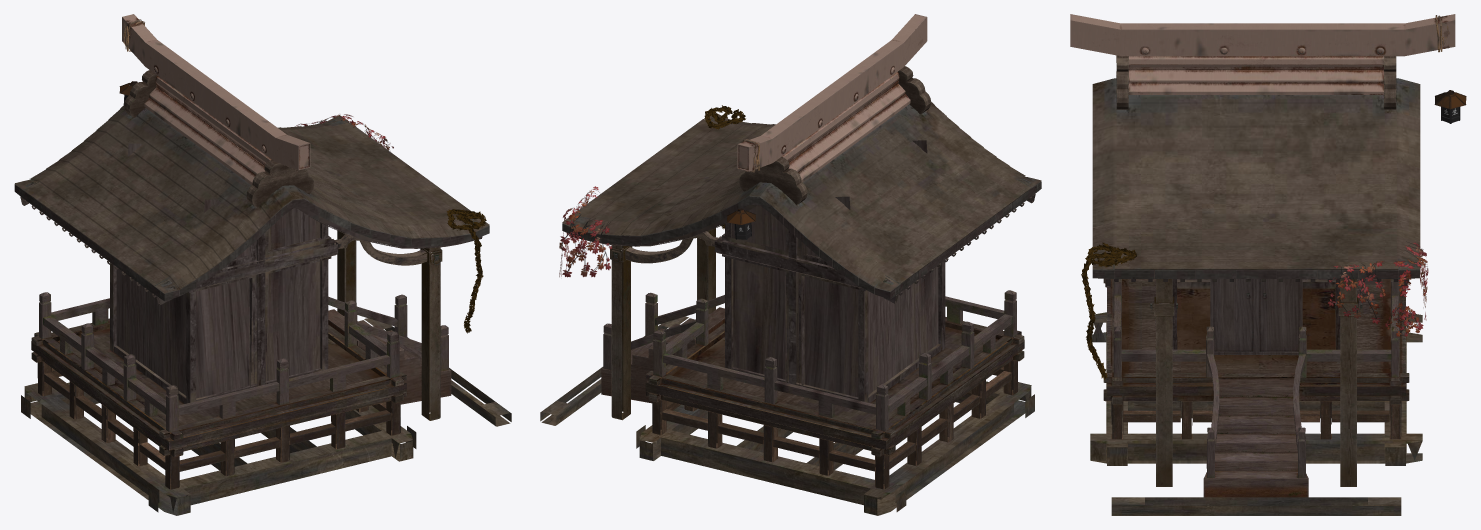
The model's file is hokora_s16.glb.
3 views of the same model, side by side, from view 1: azimuth 30°, elevation 25°; view 2: azimuth 150°, elevation 25°; view 3: azimuth 270°, elevation 25° (orthographic). The views are drawn at different scales.
Parts seen in each view (by area): view 1: polySurface64, polySurface46, pCube8, polySurface102, polySurface39, polySurface2, polySurface45, polySurface5, pCube4, polySurface63, polySurface59, pPlane10 (+3 smaller); view 2: polySurface64, polySurface46, pCube8, polySurface102, polySurface39, polySurface2, polySurface45, polySurface5, pCube4, polySurface63, polySurface59, pPlane21 (+5 smaller); view 3: polySurface64, polySurface2, polySurface102, pCube8, pPlane10, pCube4, polySurface85, polySurface39, polySurface5, polySurface63, pPlane21, Rope (+3 smaller).
Boxes of the visible parts, <box> form: polySurface64: <box>15,105,489,293</box>; polySurface46: <box>115,143,322,402</box>; pCube8: <box>21,318,511,515</box>; polySurface102: <box>31,318,406,457</box>; polySurface39: <box>39,292,448,431</box>; polySurface2: <box>122,14,310,184</box>; polySurface45: <box>110,223,338,403</box>; polySurface5: <box>37,361,400,489</box>; pCube4: <box>337,230,442,420</box>; polySurface63: <box>14,119,489,301</box>; polySurface59: <box>124,70,314,207</box>; pPlane10: <box>328,309,451,404</box>; polySurface64: <box>562,102,1041,291</box>; polySurface46: <box>731,140,939,401</box>; pCube8: <box>540,316,1034,515</box>; polySurface102: <box>645,317,1024,456</box>; polySurface39: <box>603,290,1016,431</box>; polySurface2: <box>737,14,927,182</box>; polySurface45: <box>714,222,945,402</box>; polySurface5: <box>652,360,1017,489</box>; pCube4: <box>610,227,715,420</box>; polySurface63: <box>562,179,1041,299</box>; polySurface59: <box>739,66,931,204</box>; pPlane21: <box>559,186,612,277</box>; polySurface64: <box>1092,78,1420,269</box>; polySurface2: <box>1070,14,1455,94</box>; polySurface102: <box>1103,270,1409,404</box>; pCube8: <box>1090,312,1422,515</box>; pPlane10: <box>1203,379,1308,497</box>; pCube4: <box>1154,279,1358,486</box>; polySurface85: <box>1210,270,1302,355</box>; polySurface39: <box>1113,270,1399,478</box>; polySurface5: <box>1111,401,1401,439</box>; polySurface63: <box>1092,259,1419,278</box>; pPlane21: <box>1327,241,1428,336</box>; Rope: <box>1081,242,1136,380</box>.
Bounding box in the file's own units: 1.37 × 1.28 × 1.21.
20 materials, 19 textured.
